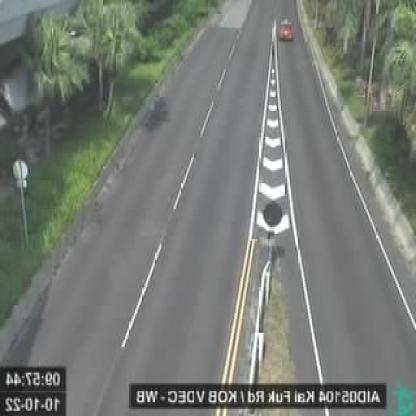Car: (280, 18, 294, 41)
